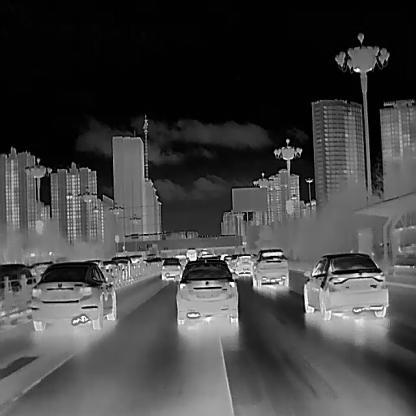car: (301, 250, 389, 320), (30, 260, 115, 330), (174, 260, 237, 324), (0, 262, 36, 322), (250, 248, 288, 288), (96, 258, 120, 285), (112, 255, 133, 281), (160, 257, 182, 280), (235, 253, 254, 275), (186, 247, 196, 260)
